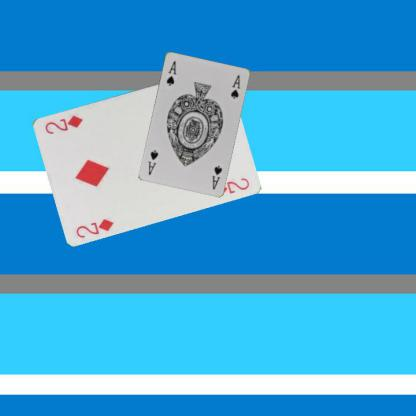2d: (73, 216, 115, 238)
As: (163, 58, 177, 86), (209, 163, 223, 190)
